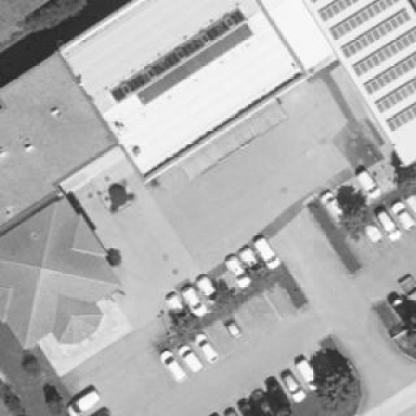solar-pv-panel: (136, 22, 254, 105), (338, 7, 412, 60), (351, 25, 416, 78), (327, 0, 399, 42), (362, 51, 416, 96), (374, 76, 416, 114), (385, 101, 416, 132), (316, 0, 359, 22), (311, 0, 318, 4)
